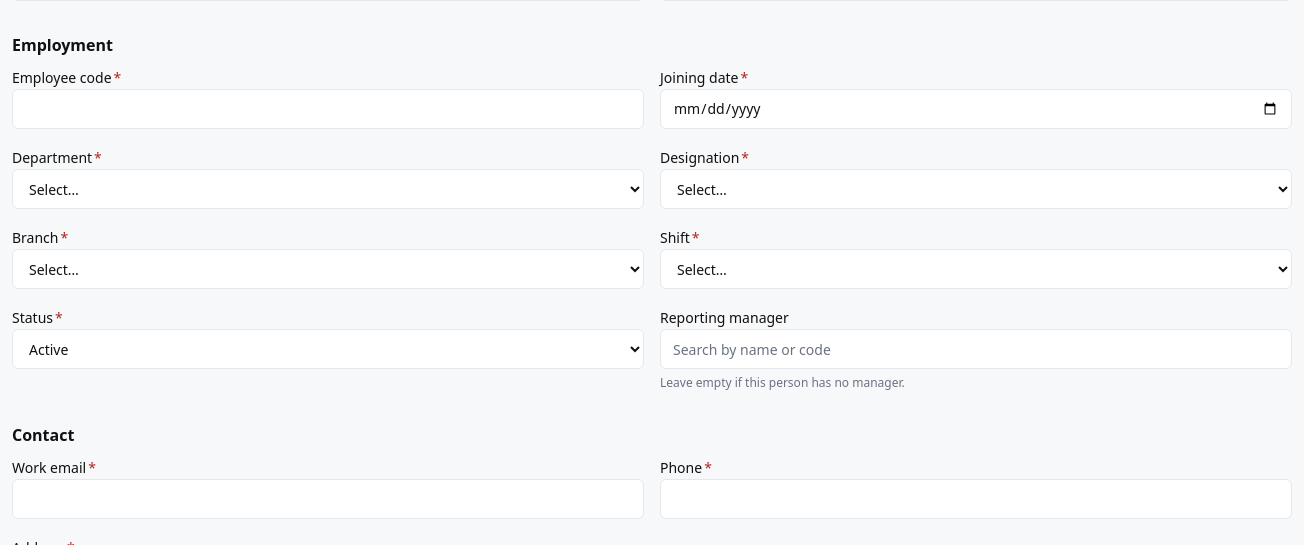
Test case: EmployeeForm › rejects an invalid email address
Type "not-an-email" into the field labelled "Work email*" at (328,499), box [12,479,644,519]
(page scrolled)
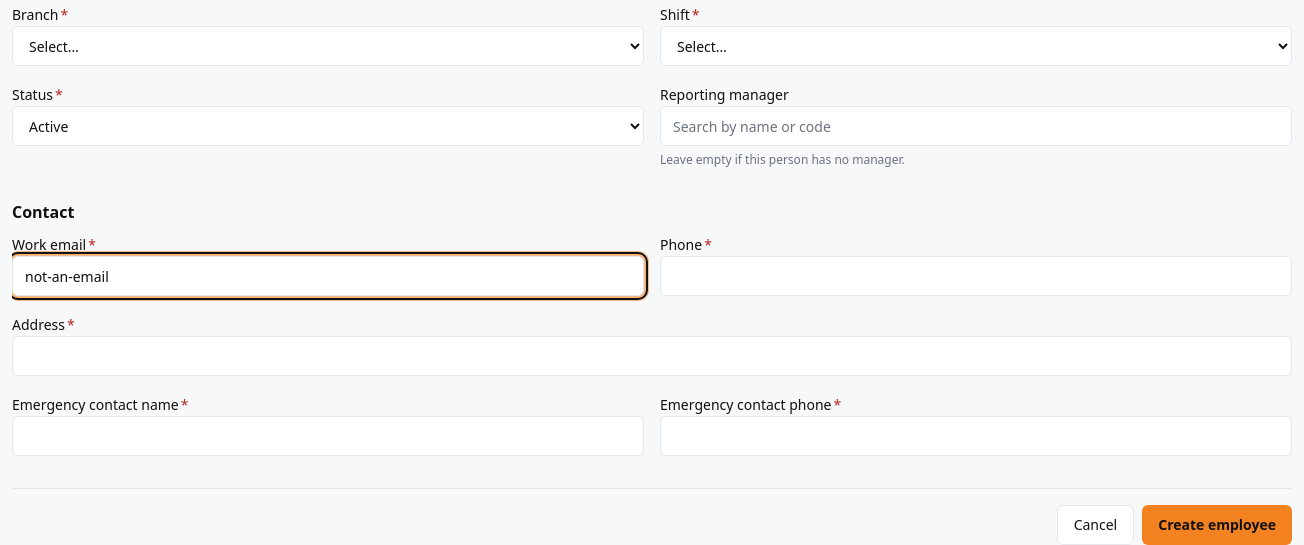
Click the button "Create employee" at (1217,525), box [1142,505,1292,544]
(page scrolled)
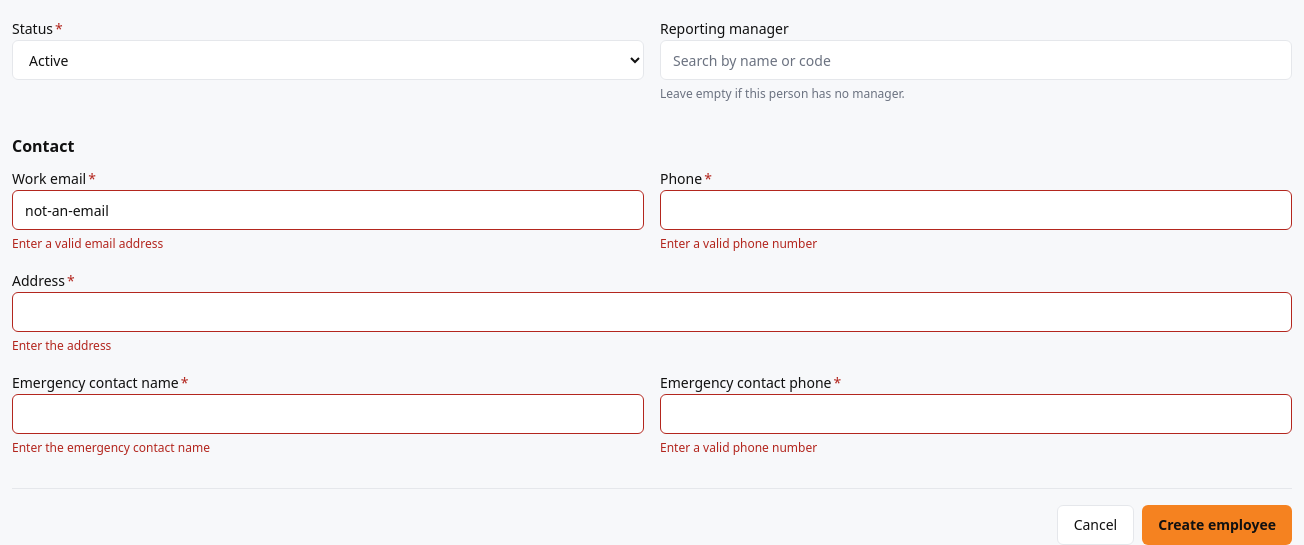
Result: the text "Enter a valid email address" is shown at [12,235,163,252]
